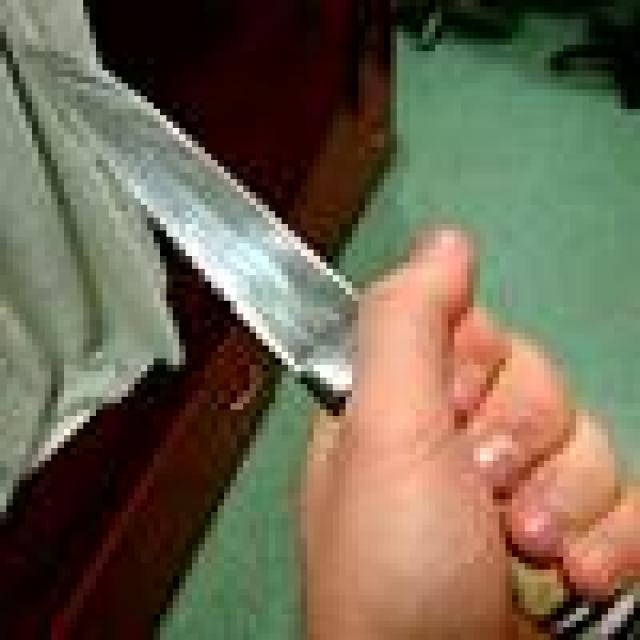faca: (13, 19, 640, 640)
